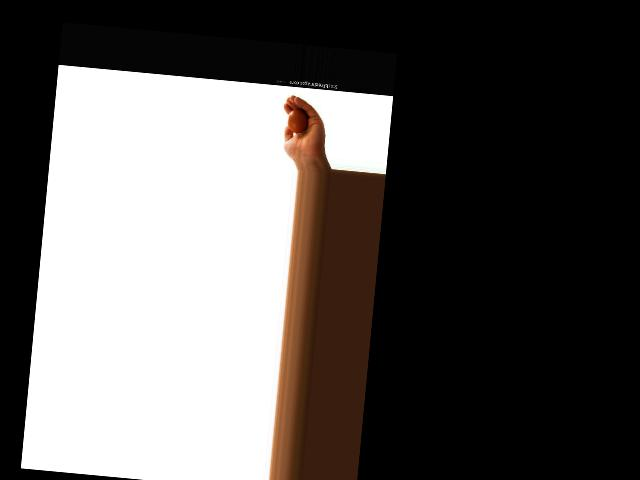egg: (287, 106, 308, 134)
